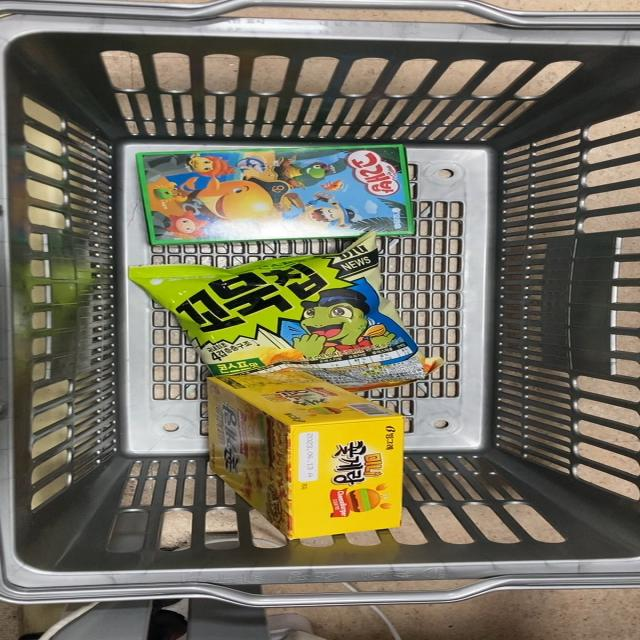ggobukchip: (122, 252, 448, 402)
goraebob: (84, 138, 420, 248)
minicrab: (188, 374, 443, 533)
